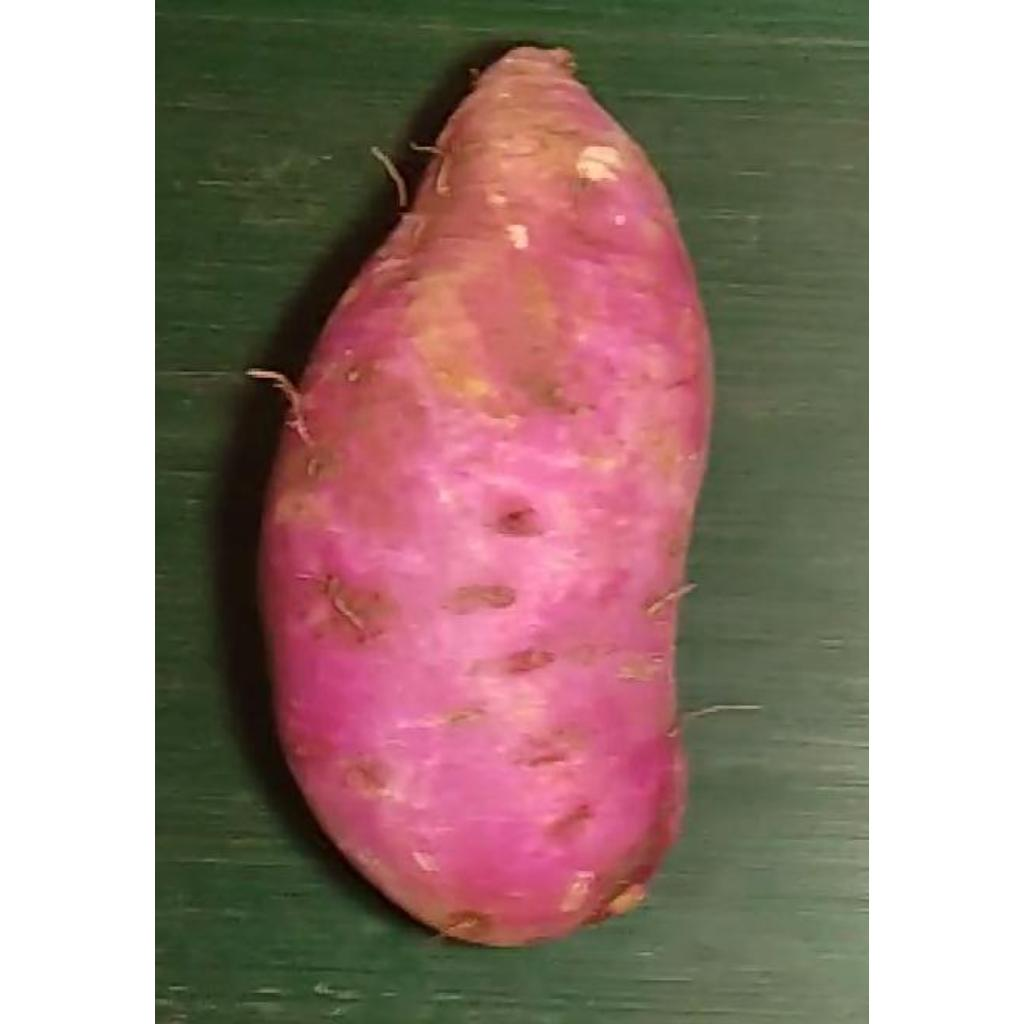Sweet Potato: (258, 42, 715, 951)
